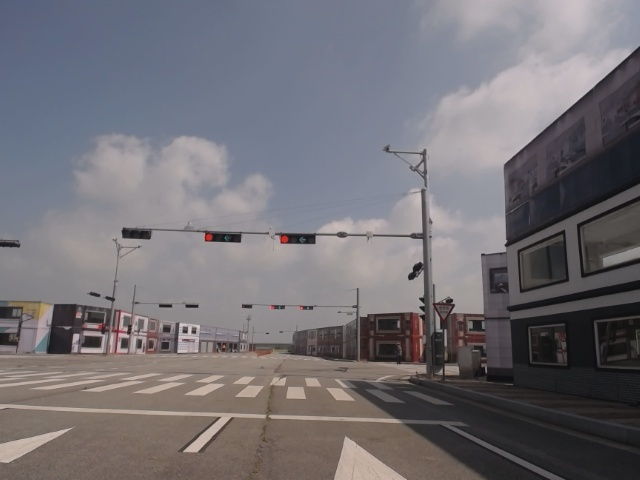left_green_4: (204, 231, 242, 243), (280, 233, 316, 245)
